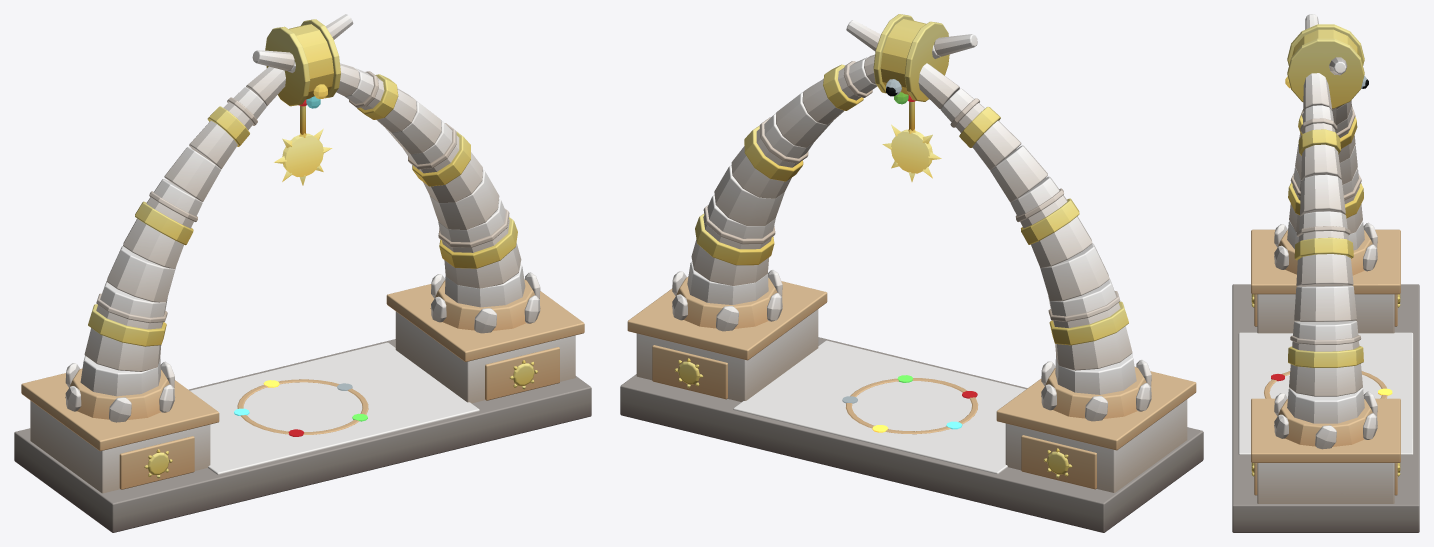
File: tusk_arch.glb
3 renders of one model, left to right at view 1: azimuth 30°, elevation 25°; view 2: azimuth 150°, elevation 25°; view 3: azimuth 270°, elevation 25°, orthographic. The views are drawn at different scales.
Visible parts, largest first — view 1: tusk_arch; view 2: tusk_arch; view 3: tusk_arch.
Part boxes in pixels (x1=…): tusk_arch: x1=14, y1=14, x2=591, y2=532; tusk_arch: x1=620, y1=14, x2=1203, y2=532; tusk_arch: x1=1232, y1=14, x2=1419, y2=532.
Bounding box in the file's own units: 8.5 × 6.9 × 3.
10 materials, 10 textured.
